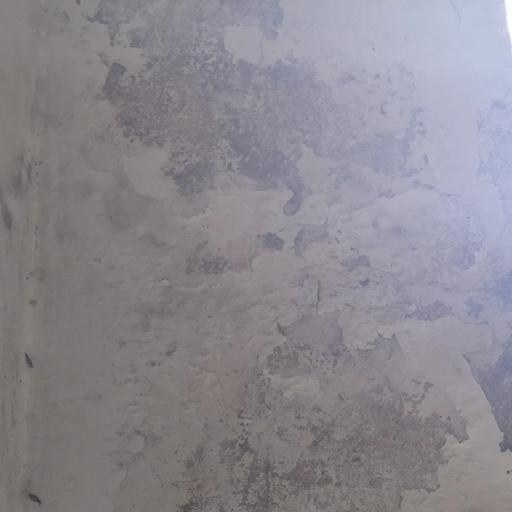peeling: (63, 3, 512, 512)
